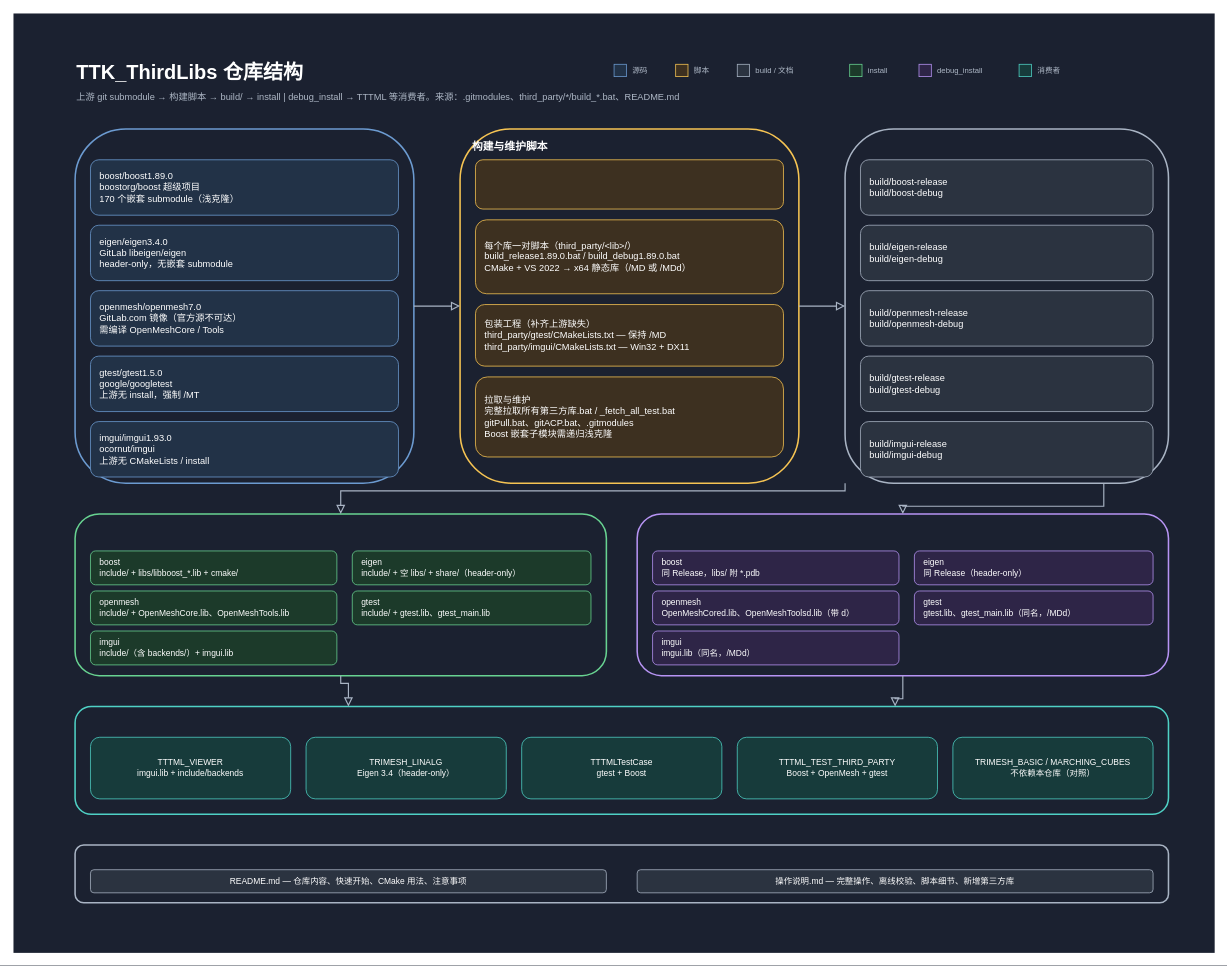
The diagram is 1227 pixels wide and 966 high, and some of its shapes have lost their labels. Here are the shapes that lost their labels. From the top down, the box of each, then its label:
(475, 159, 783, 209): 根脚本 build_all_release.bat / build_all_debug.bat 按序调用 5 个库；单个失败不中断，结束汇总
(74, 128, 414, 484): third_party/ —— 上游源码（git submodule 固定 commit）
(844, 128, 1169, 484): build/ —— CMake 中间产物（已 gitignore）
(74, 513, 607, 676): install/ —— Release 产物（/MD）
(636, 513, 1169, 676): debug_install/ —— Debug 产物（/MDd）
(74, 705, 1169, 815): 消费者（按 $<CONFIG> 选择 install 或 debug_install）
(74, 844, 1169, 903): 文档
